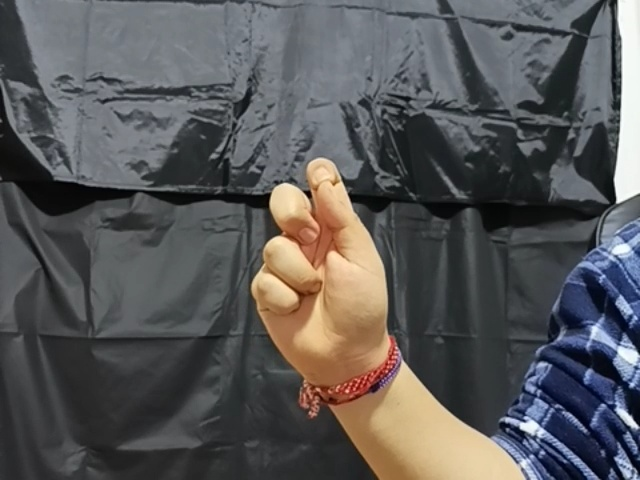T: (240, 155, 399, 366)
